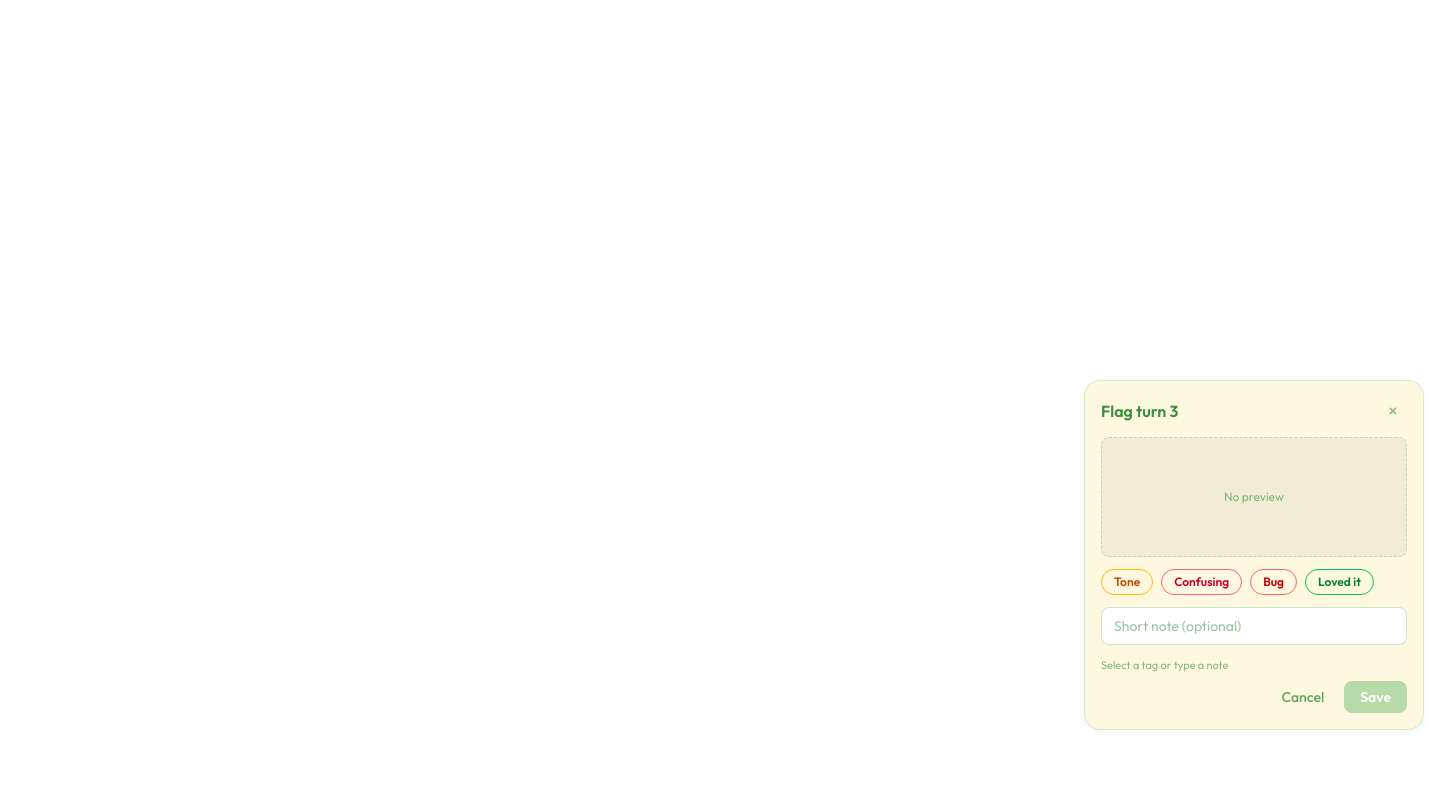
FeedbackQuickFlag › disables Save by default and enables it after selecting a tag
Expected: the button "Save" is disabled, x1=1344 y1=681 x2=1407 y2=713
Click the button "Tone".
click(1127, 582)  # box x1=1101 y1=568 x2=1153 y2=594
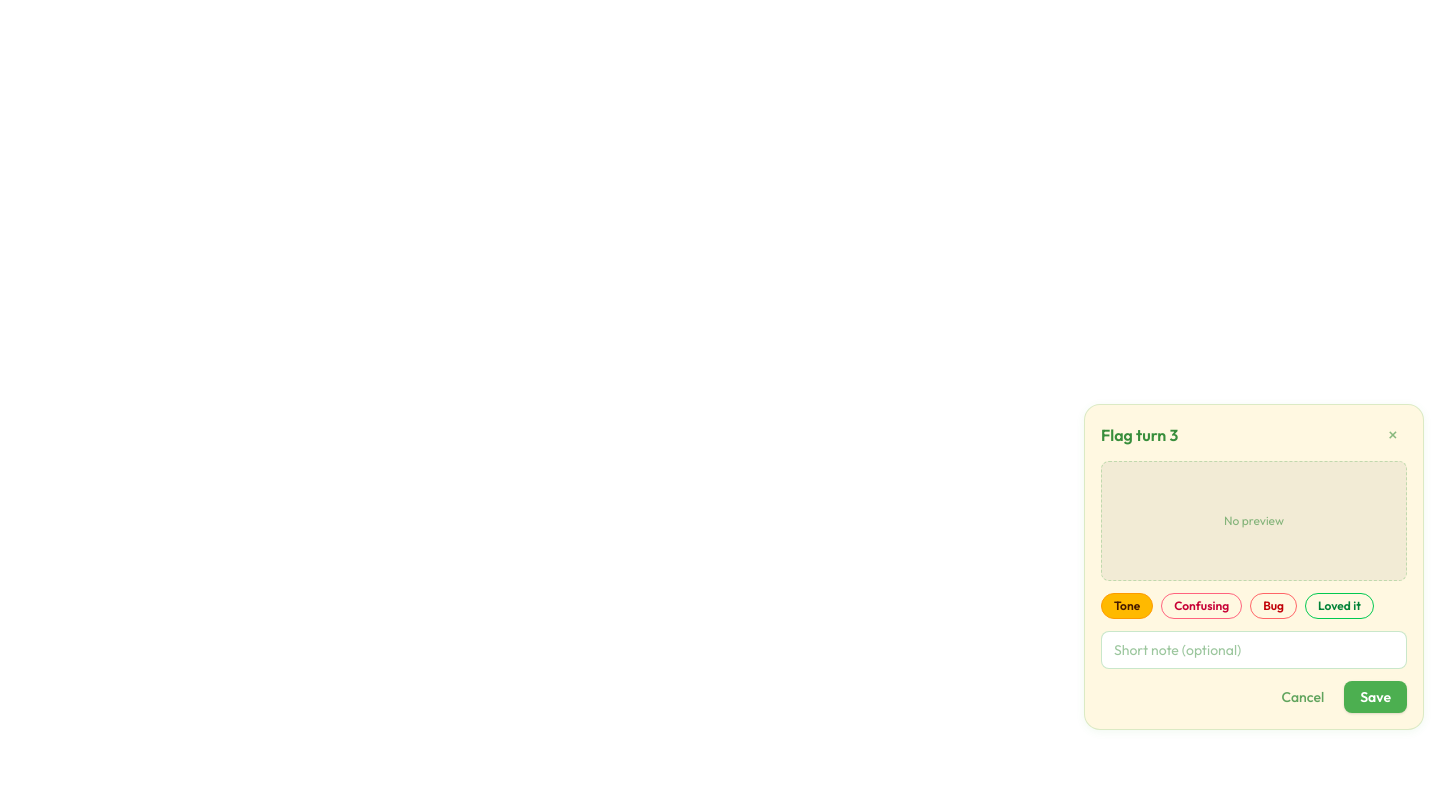
Result: the button "Save" is enabled at x1=1344 y1=681 x2=1407 y2=713
